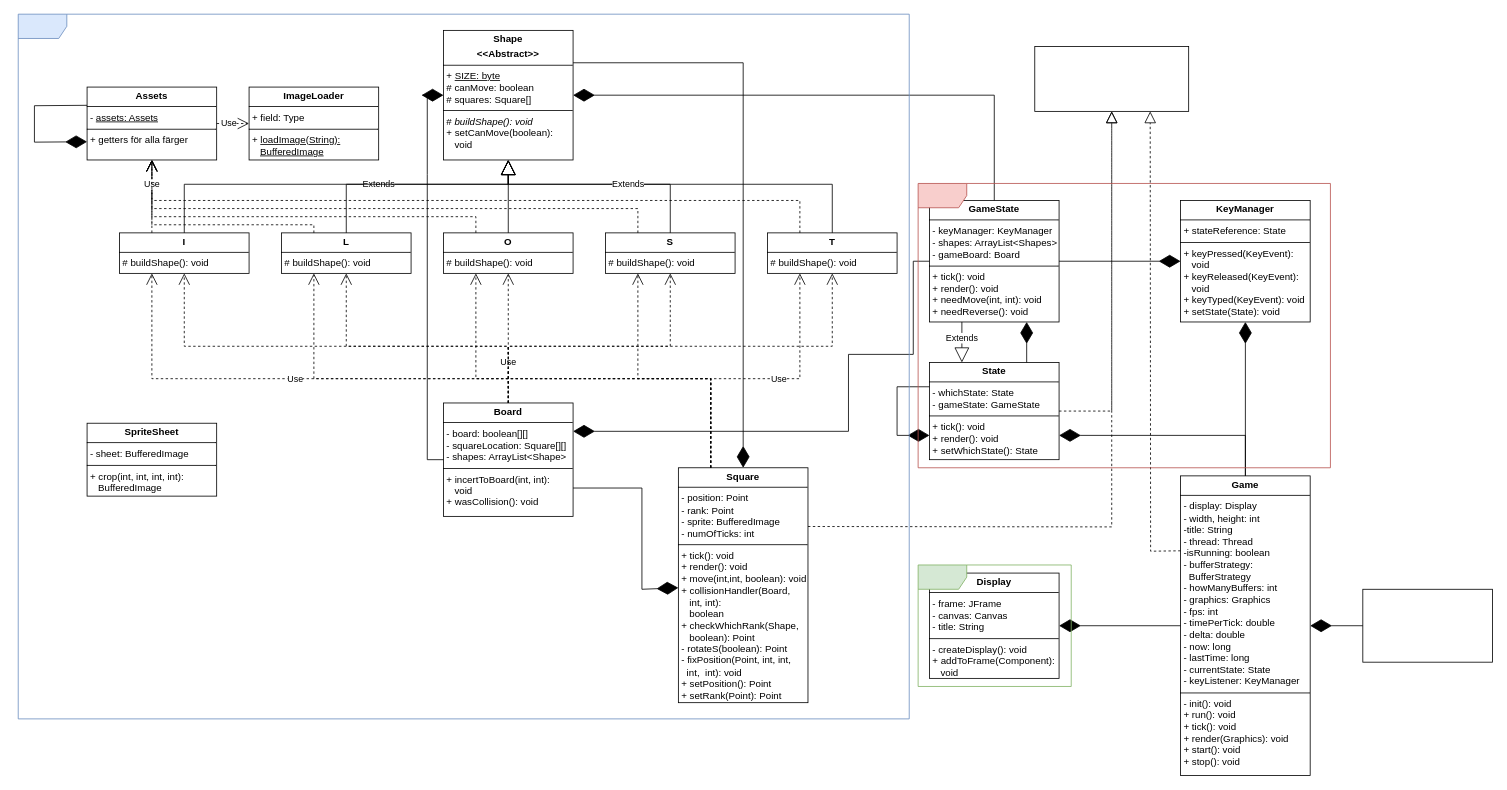
This 1507x790 diagram has some shape labels left out. The shapes that lost their labels are listed below. From the top down, each one's centre as x and y in pixels, then its label:
At pixel 1111 78: "<<Interface>> TickAndRender + tick(): void + render(Graphics): void".
At pixel 1123 325: "Controller".
At pixel 463 366: "Model".
At pixel 994 625: "View".
At pixel 1427 625: "Launcher ~ game: Game + main(String[]args): void".
